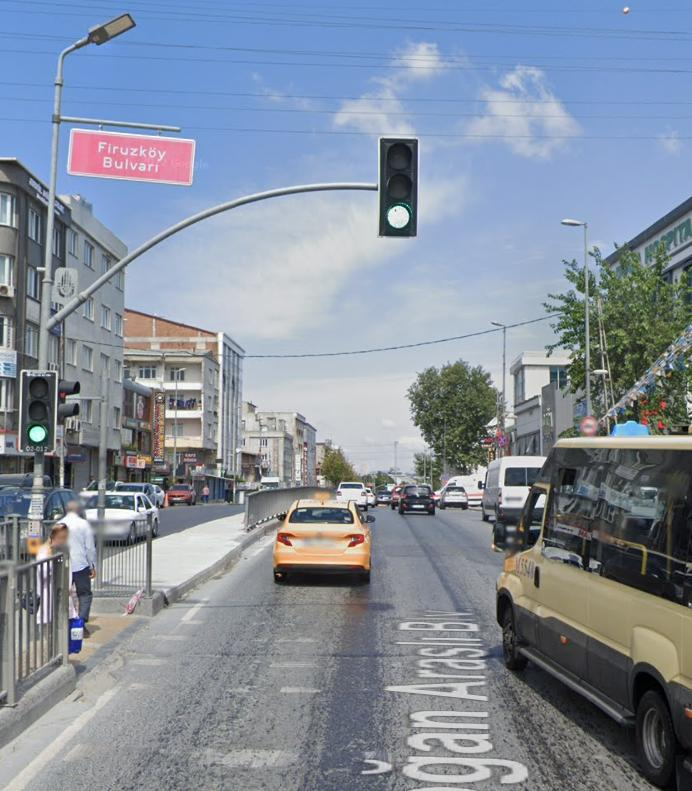greenlight: (379, 133, 418, 237), (19, 364, 57, 451)
